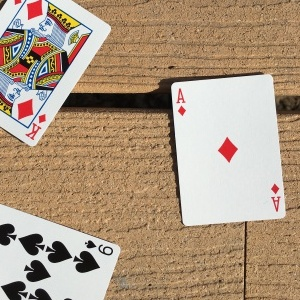card: (169, 74, 287, 226)
